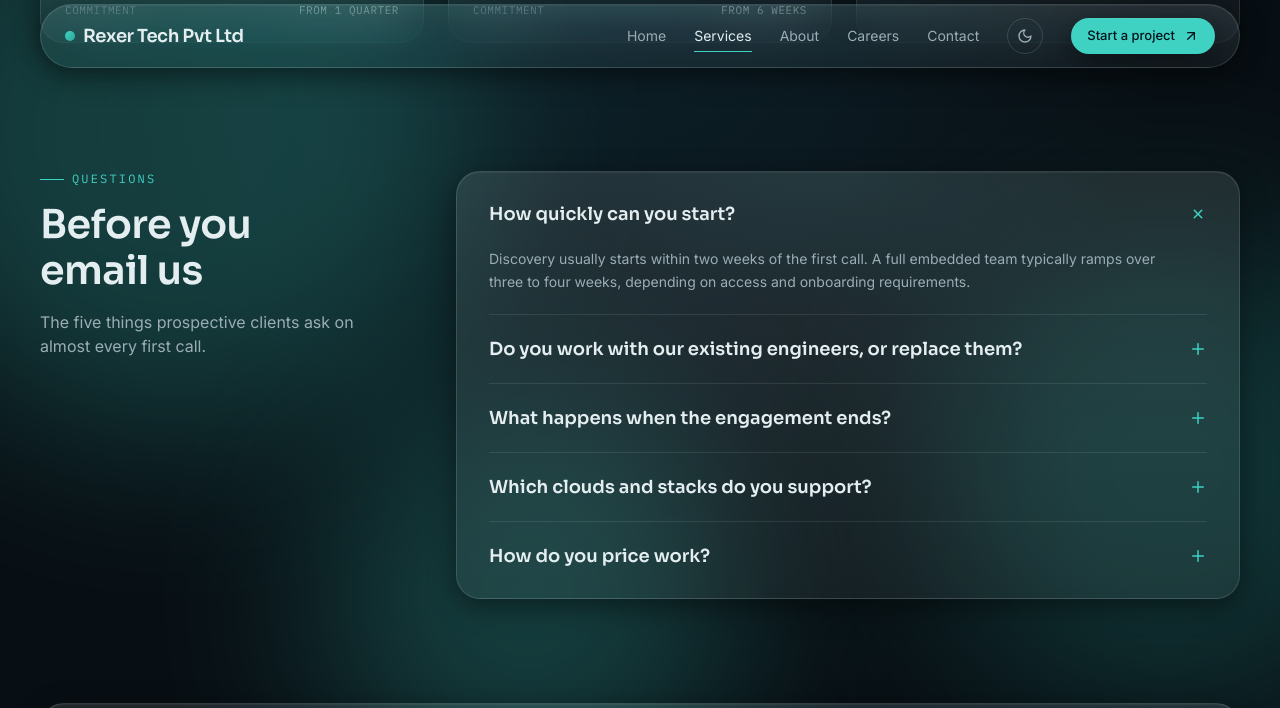
Test: faq accordion › opens one answer at a time and reports state via aria-expanded
(page scrolled)
Click the button "Do you work with our existing engineers, or replace them?": {"x": 848, "y": 349} [489,315,1207,383]
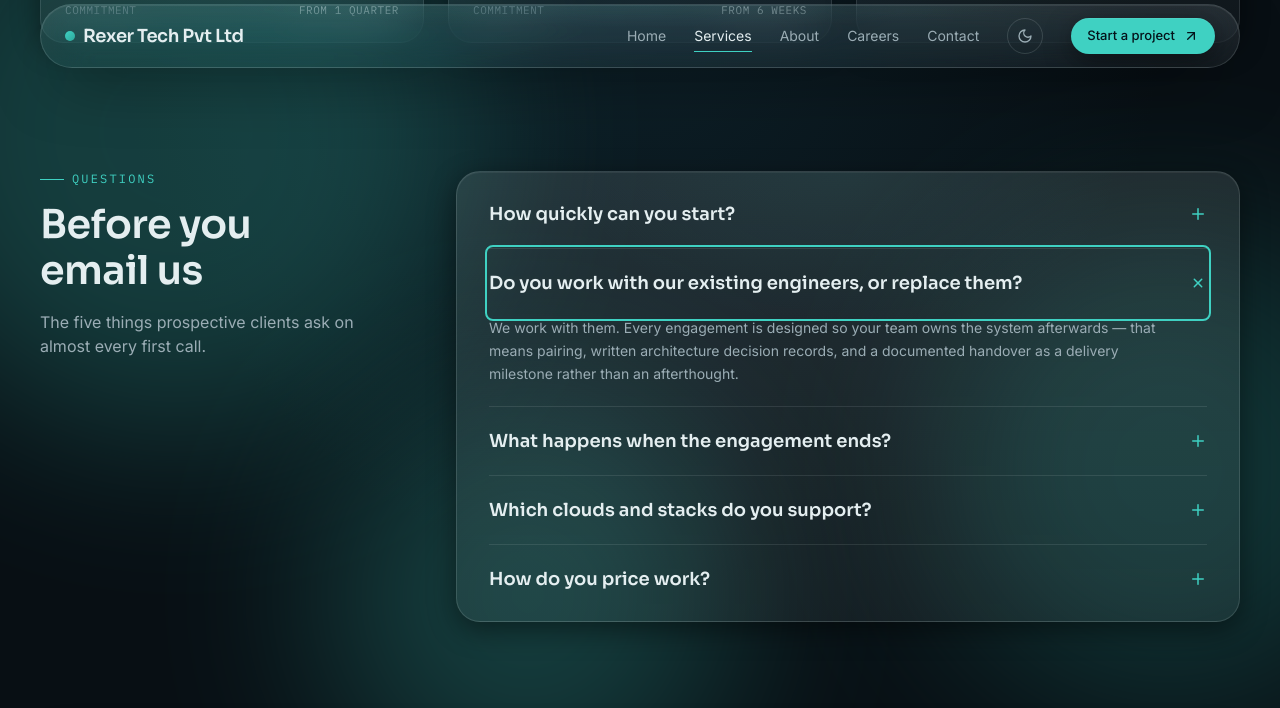
Result: the button "Do you work with our existing engineers, or replace them?" is expanded at [489,249,1207,317]
Result: the button "How quickly can you start?" is collapsed at [489,180,1207,248]
